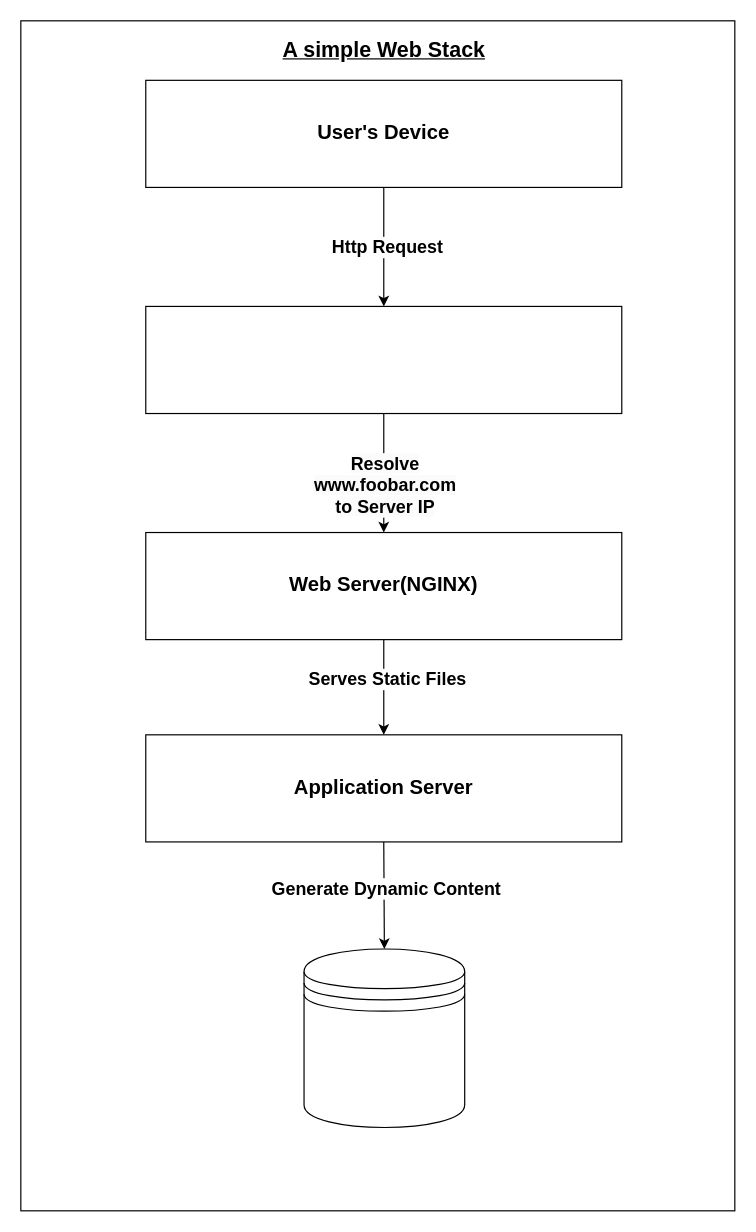
Image size: 756x1232. Some labels were removed from this diagram. Each missing label, with the box of its shape:
Database: (303, 948, 465, 1128)
DNS Resolution: (145, 305, 622, 414)
